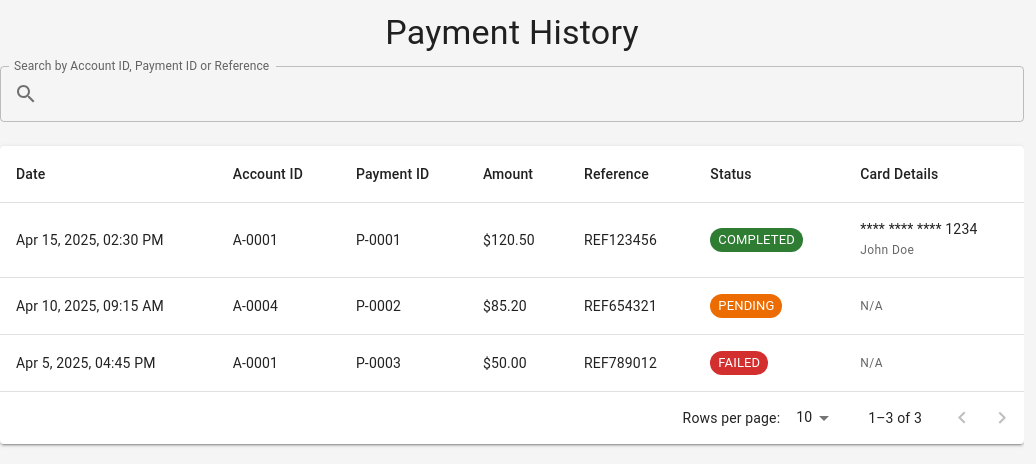
Test: PaymentHistoryPage › searches payments by account ID
The image size is (1036, 464).
Check: the text "P-0001" is shown, box [340,202,467,277]
In the field labelled "Search by Account ID, Payment ID or Reference": (535, 94) [46,66,1024,122], type "A-0004"
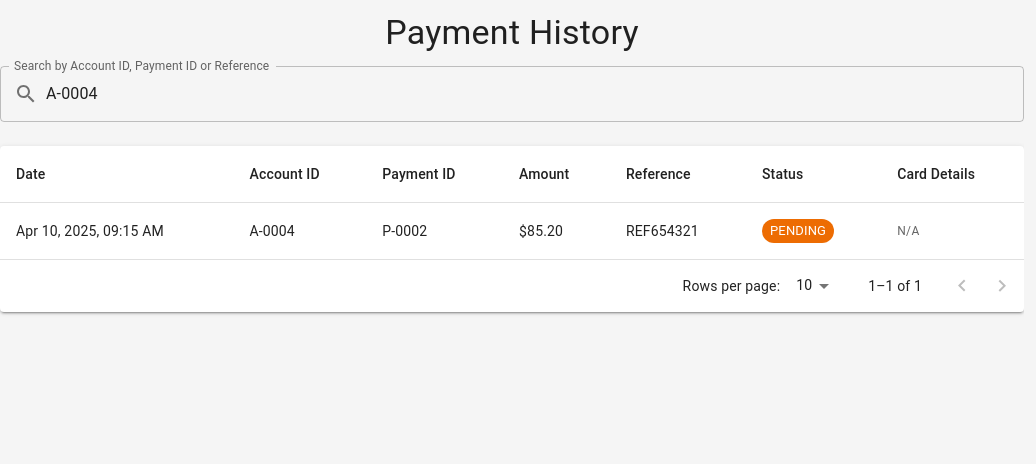
Check: the text "P-0002" is shown, box [366,202,503,259]
Check: the number of rows is 2, box [0,146,1024,202]; [0,202,1024,259]
